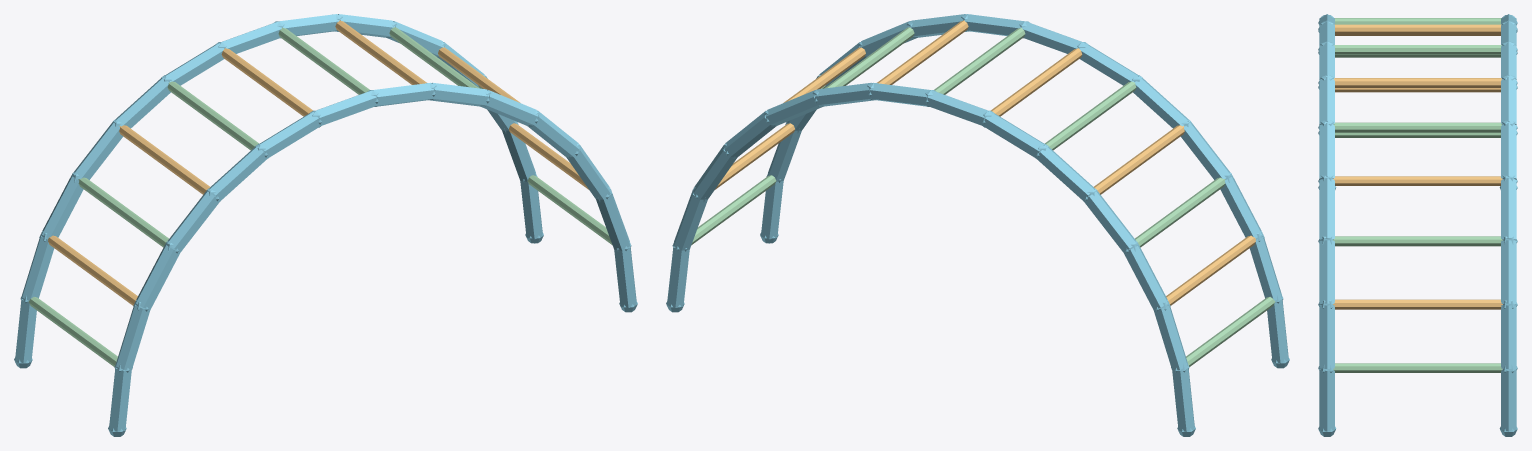
Rendered from arch_ladder.glb.
3 renders of one model, left to right at view 1: azimuth 30°, elevation 25°; view 2: azimuth 150°, elevation 25°; view 3: azimuth 270°, elevation 25°, orthographic. The views are drawn at different scales.
Visible parts, largest first — view 1: ArchLadder; view 2: ArchLadder; view 3: ArchLadder.
Boxes of the visible parts, x1,y1,x2,y2 form: ArchLadder: [14, 14, 637, 436]; ArchLadder: [666, 14, 1289, 436]; ArchLadder: [1318, 14, 1517, 436].
Size of the model in its own units: 2.27 by 1.17 by 0.77.
